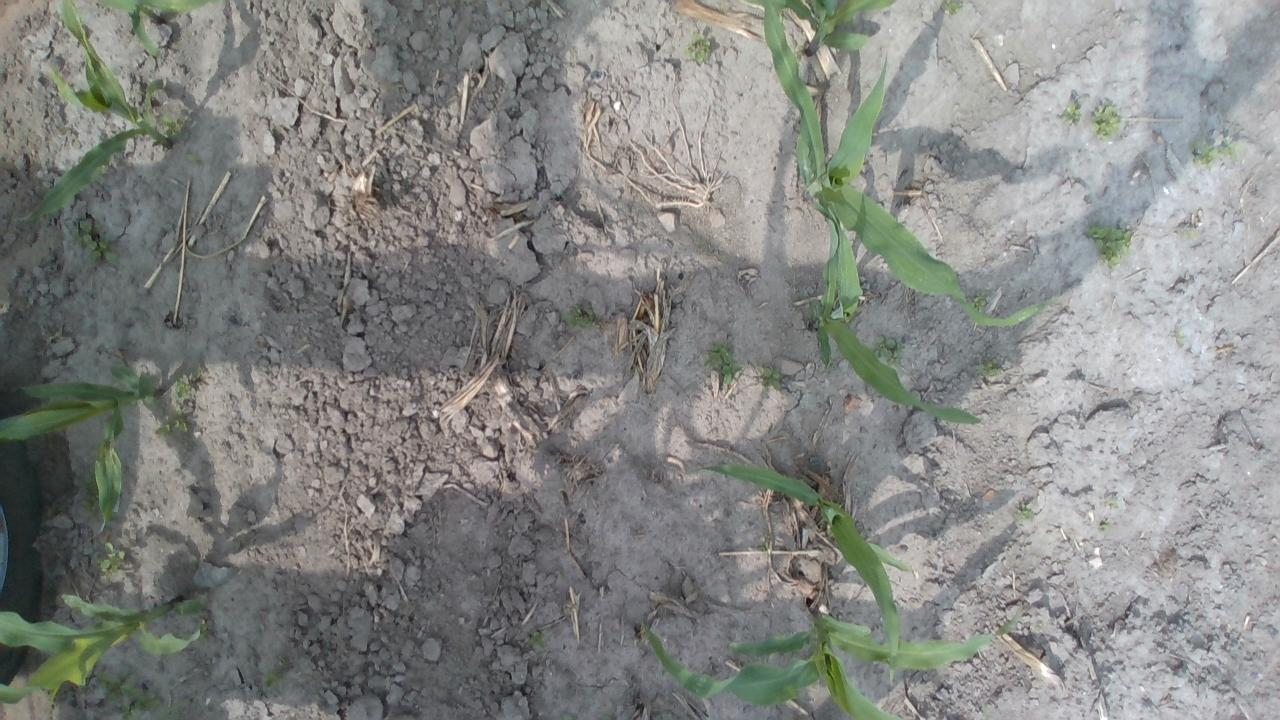Maize: (759, 0, 1057, 331), (694, 461, 908, 692), (636, 603, 1018, 720), (803, 198, 983, 426), (20, 0, 176, 225), (0, 364, 160, 546), (0, 590, 203, 703), (742, 0, 895, 57), (96, 0, 218, 57)
Weeds: (94, 664, 162, 720), (67, 213, 121, 269), (1084, 222, 1134, 268), (702, 336, 742, 388), (860, 332, 903, 371), (1090, 103, 1122, 142), (679, 29, 710, 65), (75, 467, 98, 515), (94, 542, 126, 576), (152, 412, 188, 441), (560, 302, 596, 331), (1190, 136, 1218, 168), (1220, 132, 1246, 162), (263, 660, 289, 688), (174, 598, 206, 619), (172, 373, 195, 402), (155, 698, 185, 720), (758, 366, 782, 391), (974, 357, 1001, 377), (1060, 99, 1081, 124), (158, 114, 178, 139), (1013, 502, 1034, 521), (528, 630, 546, 651), (942, 0, 962, 16), (969, 295, 986, 313), (184, 151, 202, 168), (1102, 495, 1118, 510), (1096, 520, 1112, 534), (1175, 326, 1185, 344), (192, 365, 206, 375)
